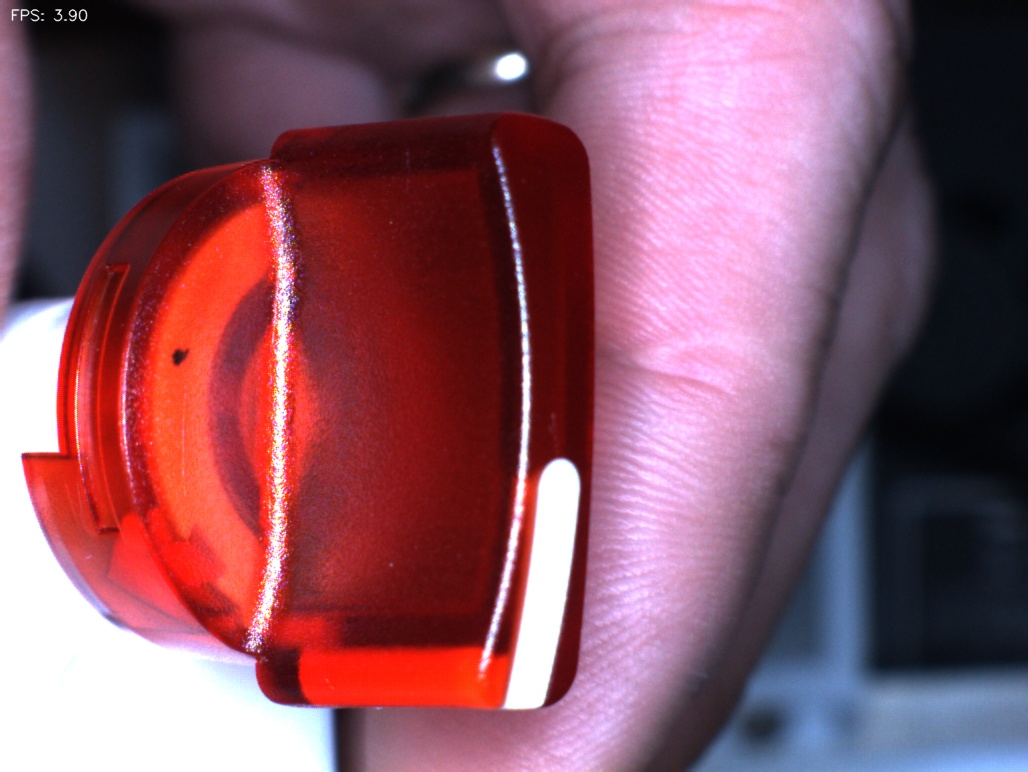PointNoir: (142, 315, 214, 402)
